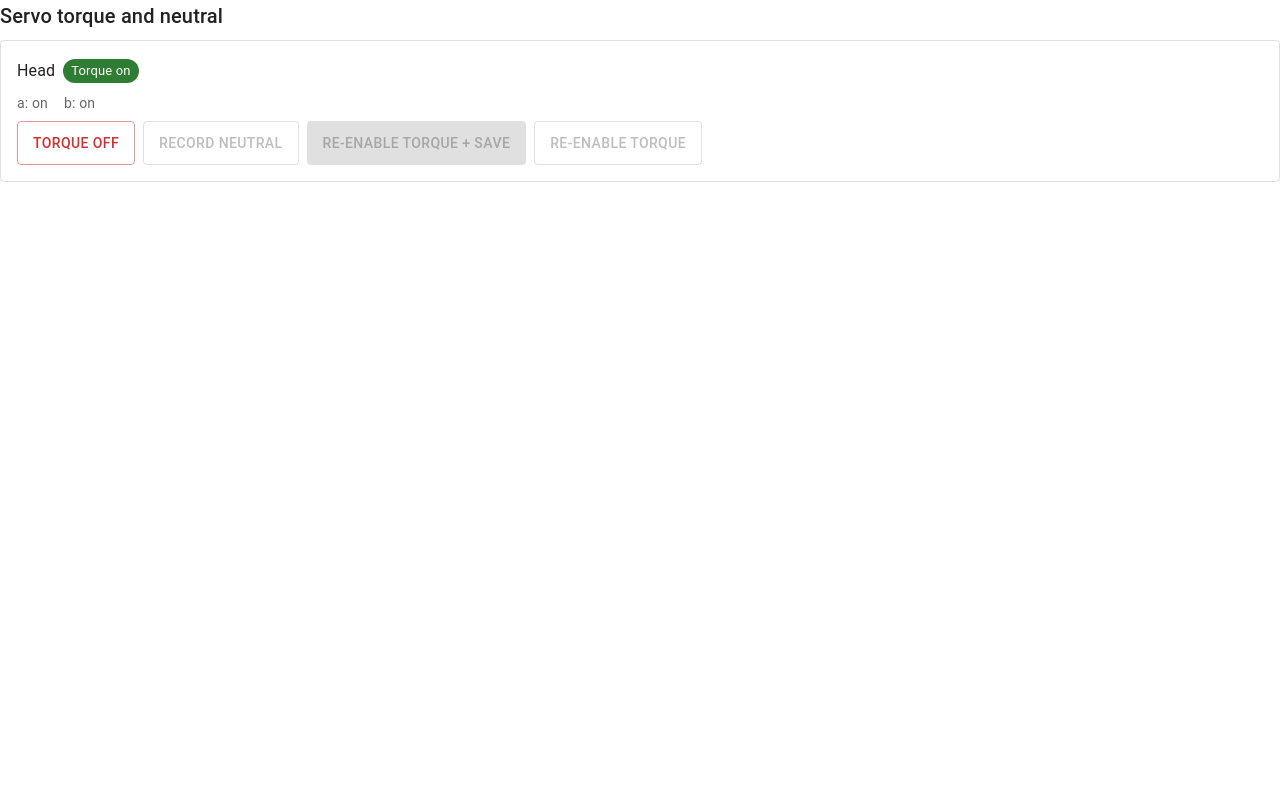
ServoNeutral › Torque off on head confirms with the exact text then releases
This screenshot has width=1280, height=800.
Expected: the element "Head" is shown, 0,40 -> 1279,182
What coordinates should you click on to do the following:
click the button "Torque off"
I would click on:
 (76, 143)
Its box is 17,121 -> 135,165.
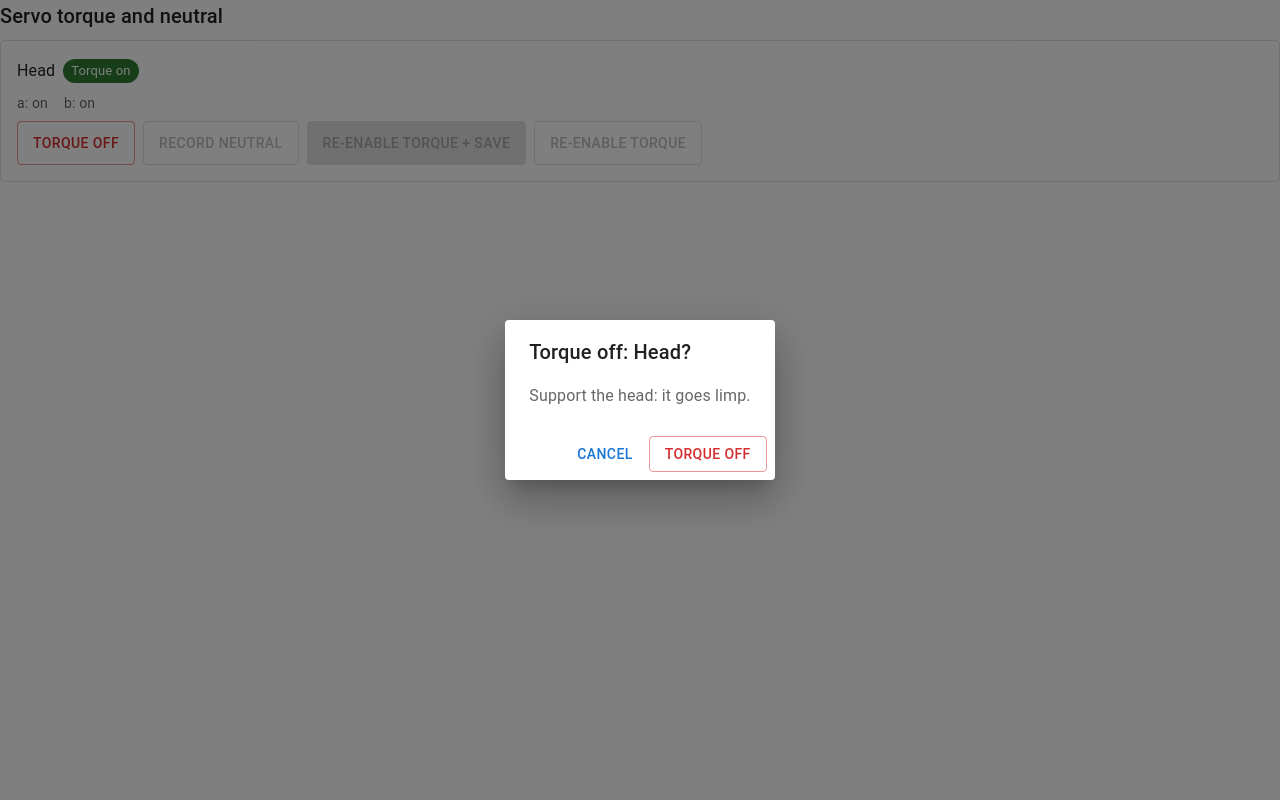
Now the text "Support the head: it goes limp." is shown, box 529,384 -> 751,408
